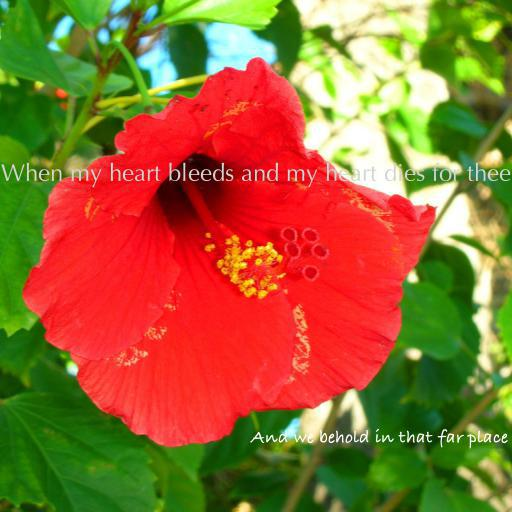Bradley Hand: (250, 428, 508, 449)
Optima: (1, 162, 511, 188)
